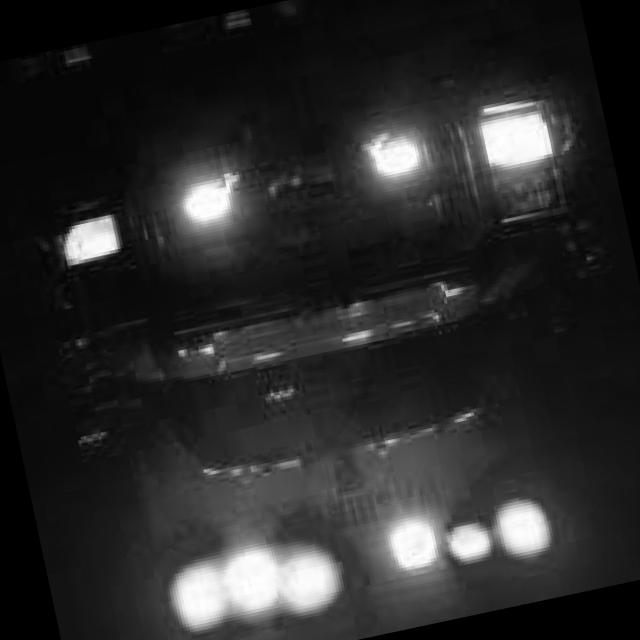ambulance: (117, 435, 592, 640)
